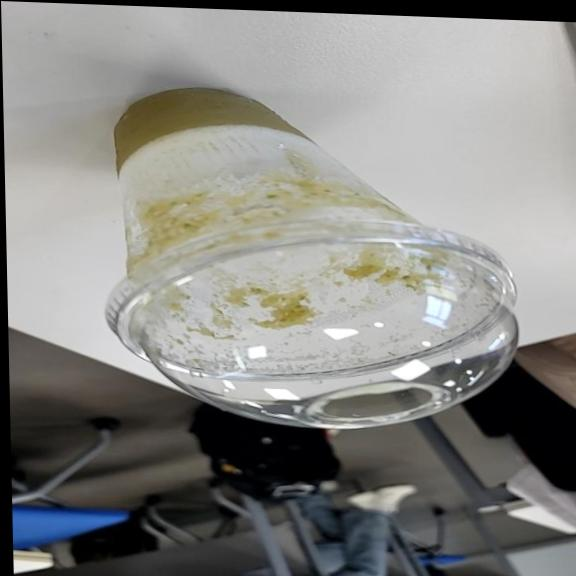Plastik: (106, 89, 516, 427)
